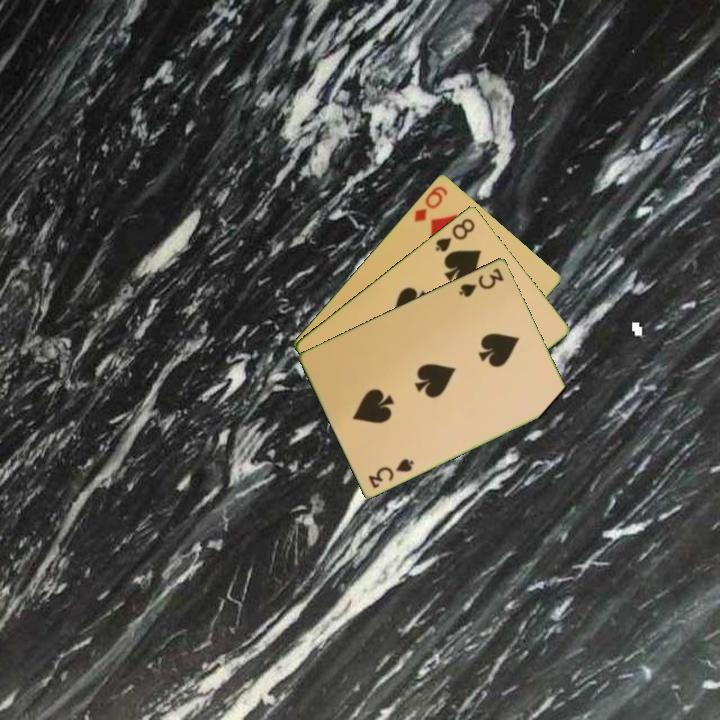3s: (365, 454, 417, 491), (455, 264, 507, 300)
6d: (410, 182, 450, 225)
8s: (432, 214, 478, 255)
